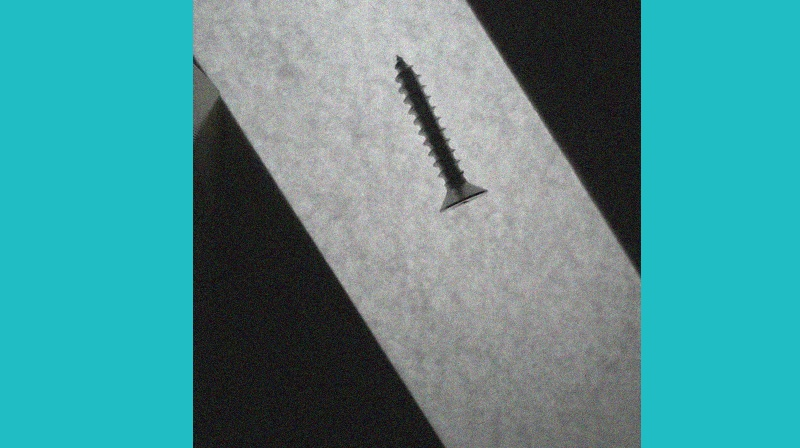S001: (387, 51, 489, 215)
